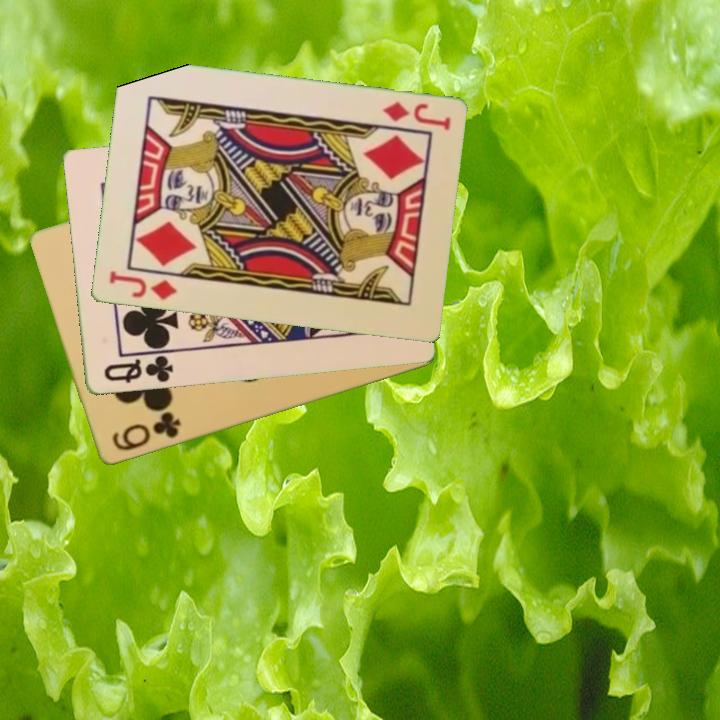6c: (108, 408, 183, 454)
Jd: (105, 268, 180, 303), (379, 98, 453, 133)
Qc: (100, 352, 176, 387)
